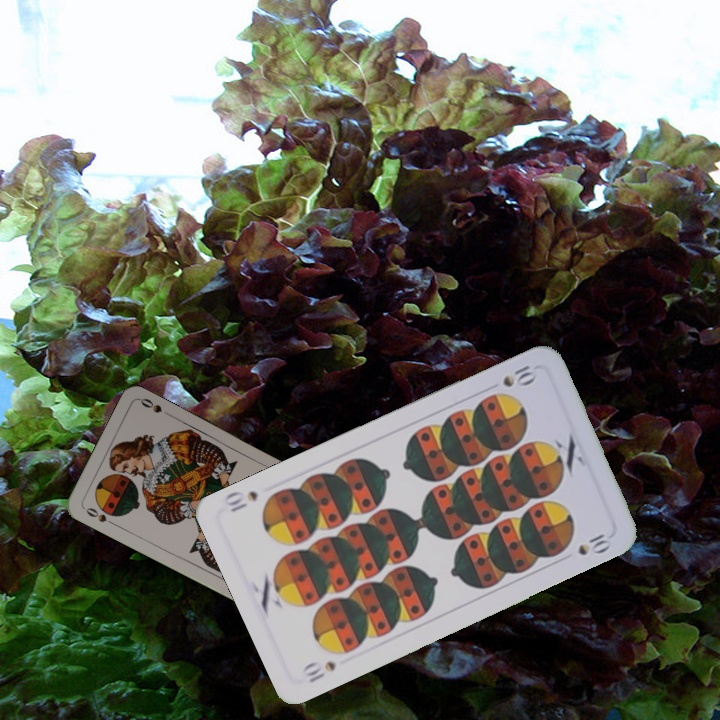S10: (498, 361, 540, 390), (298, 657, 339, 686)
SO: (82, 503, 117, 528)
